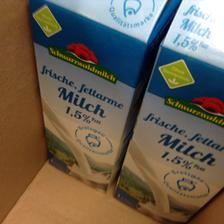Milch: (27, 0, 164, 192), (109, 0, 223, 219)
